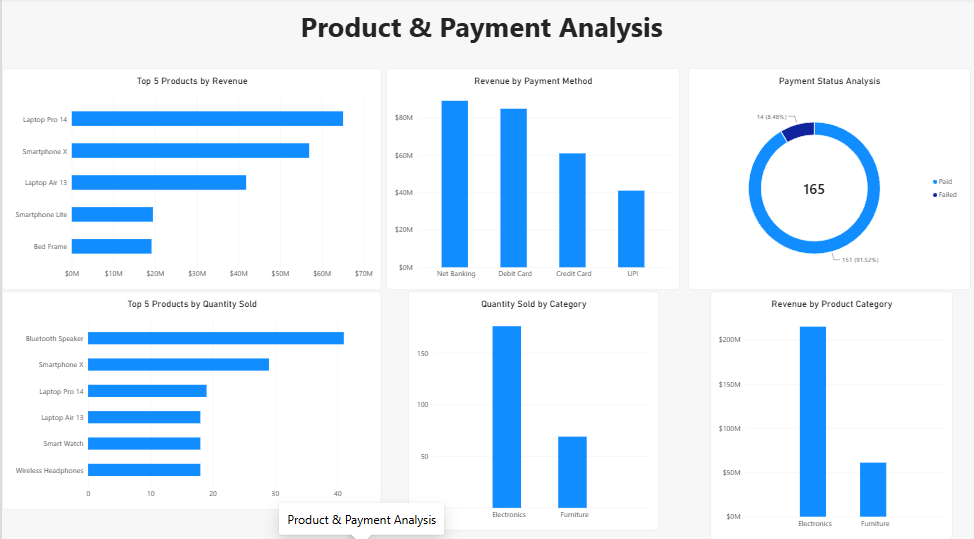

This screenshot's page, from the dashboard's own definition file:
{"tool":"powerbi","page":{"name":"Product & Payment Analysis","canvas":[1920,1080],"ordinal":2},"visuals":[{"type":"clusteredBarChart","title":"Top 5 Products by Quantity Sold","fields":{"Category":["ecommerce_powerbi_project products.product_name"],"Y":["ecommerce_powerbi_project orders.Toatal quantity"]},"box":[0,574.6,745.2,429.8],"z":0},{"type":"clusteredColumnChart","title":"Revenue by Payment Method","fields":{"Category":["ecommerce_powerbi_project payments.payment_method"],"Y":["ecommerce_powerbi_project orders.Total Revanue"]},"box":[753.8,138.2,576.7,436.3],"z":1000},{"type":"clusteredColumnChart","title":"Revenue by Product Category","fields":{"Category":["ecommerce_powerbi_project products.category"],"Y":["ecommerce_powerbi_project orders.Total Revanue"]},"box":[1391,574.6,477.4,488.2],"z":2000},{"type":"donutChart","title":"Payment Status Analysis","fields":{"Category":["ecommerce_powerbi_project payments.payment_status"],"Y":["ecommerce_powerbi_project payments.Payment Orders"]},"box":[1347.8,138.2,555.1,436.3],"z":3000},{"type":"clusteredBarChart","title":"Top 5 Products by Revenue","fields":{"Category":["ecommerce_powerbi_project products.product_name"],"Y":["ecommerce_powerbi_project orders.Total Revanue"]},"box":[0,138.2,745.2,436.3],"z":4000},{"type":"clusteredColumnChart","title":"Quantity Sold by Category","fields":{"Category":["ecommerce_powerbi_project products.category"],"Y":["ecommerce_powerbi_project orders.Toatal quantity"]},"box":[797,574.6,492.5,470.9],"z":5000},{"type":"textbox","box":[0,17.3,1883.5,121],"z":7000}]}

Visuals, with their boxes on the page's 1920x1080 design canvas (x1, y1, x2, y2). These are canvas units, not pixel positions in the 974x539 screenshot, which may show the page scaled, cropped or inside an application window:
"Top 5 Products by Quantity Sold" clusteredBarChart: BBox(0, 575, 745, 1004)
"Revenue by Payment Method" clusteredColumnChart: BBox(754, 138, 1330, 574)
"Revenue by Product Category" clusteredColumnChart: BBox(1391, 575, 1868, 1063)
"Payment Status Analysis" donutChart: BBox(1348, 138, 1903, 574)
"Top 5 Products by Revenue" clusteredBarChart: BBox(0, 138, 745, 574)
"Quantity Sold by Category" clusteredColumnChart: BBox(797, 575, 1290, 1046)
textbox: BBox(0, 17, 1884, 138)
